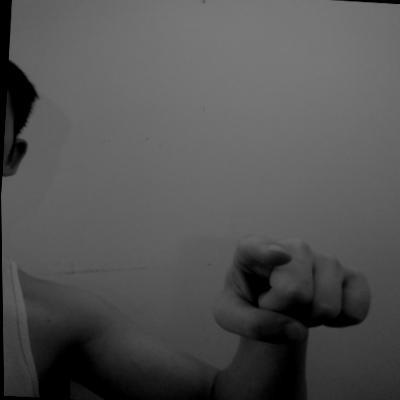hand: (203, 230, 378, 357)
